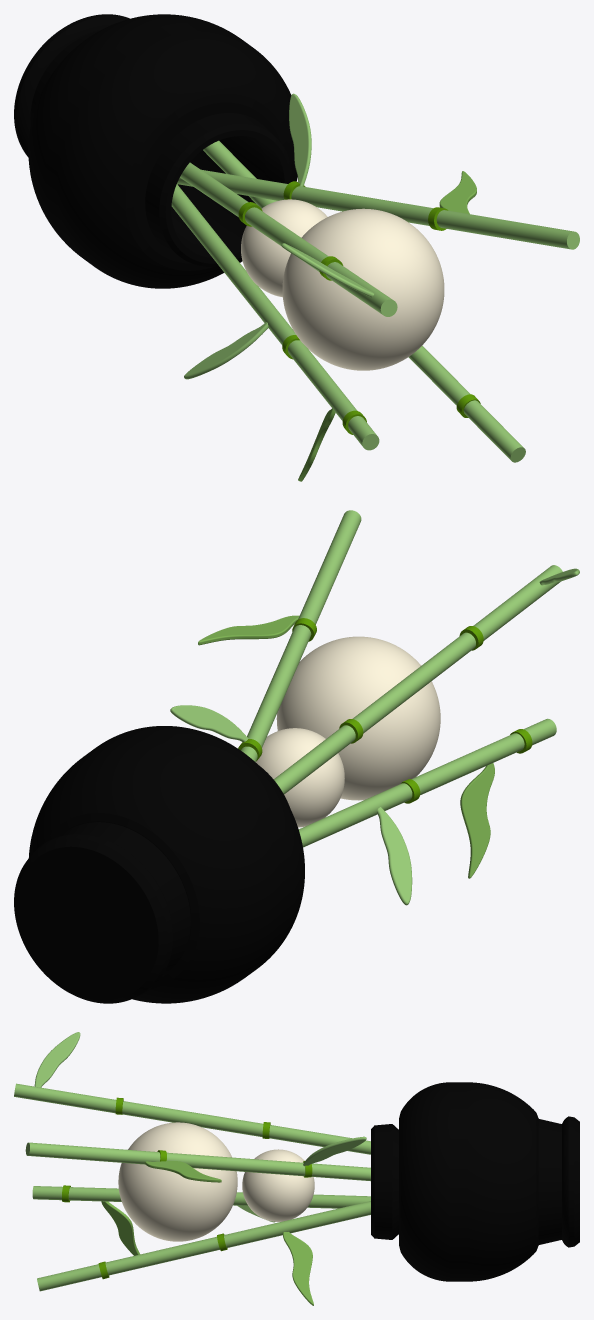
Rendered from Bamboo.glb.
The picture shows the model from 3 angles, top to bottom: view 1: azimuth 30°, elevation 25°; view 2: azimuth 150°, elevation 25°; view 3: azimuth 270°, elevation 25°; orthographic projection. The views are drawn at different scales.
Parts seen in each view (by area): view 1: Vase Body, Bamboo Stalk (×4), Ball, Vase Top, Ball2, Vase Bottom, Leaf 1 (×3), Leaf 2; view 2: Vase Body, Vase Bottom, Bamboo Stalk (×3), Ball, Ball2, Leaf 2 (×2), Leaf 1 (×2); view 3: Vase Body, Bamboo Stalk (×4), Ball, Vase Bottom, Ball2, Vase Top, Leaf 2 (×3), Leaf 1 (×2).
Boxes of the visible parts, x1=… form: Vase Body: x1=28, y1=14, x2=297, y2=288; Bamboo Stalk (×4): x1=171, y1=140, x2=579, y2=462; Ball: x1=282, y1=208, x2=444, y2=370; Vase Top: x1=145, y1=113, x2=292, y2=266; Ball2: x1=241, y1=199, x2=327, y2=297; Vase Bottom: x1=14, y1=14, x2=129, y2=157; Leaf 1 (×3): x1=184, y1=93, x2=373, y2=379; Leaf 2: x1=439, y1=171, x2=476, y2=214; Vase Body: x1=29, y1=726, x2=304, y2=1003; Vase Bottom: x1=14, y1=822, x2=190, y2=1003; Bamboo Stalk (×3): x1=241, y1=510, x2=562, y2=847; Ball: x1=276, y1=636, x2=440, y2=800; Ball2: x1=255, y1=728, x2=344, y2=827; Leaf 2 (×2): x1=198, y1=615, x2=494, y2=878; Leaf 1 (×2): x1=170, y1=705, x2=412, y2=905; Vase Body: x1=399, y1=1082, x2=538, y2=1281; Bamboo Stalk (×4): x1=14, y1=1083, x2=370, y2=1291; Ball: x1=118, y1=1122, x2=237, y2=1241; Vase Bottom: x1=538, y1=1116, x2=579, y2=1247; Ball2: x1=242, y1=1149, x2=314, y2=1221; Vase Top: x1=371, y1=1124, x2=398, y2=1239; Leaf 2 (×3): x1=101, y1=1161, x2=313, y2=1305; Leaf 1 (×2): x1=34, y1=1032, x2=366, y2=1166.
Size of the model in its own units: 0.018 by 0.0176 by 0.0429.
